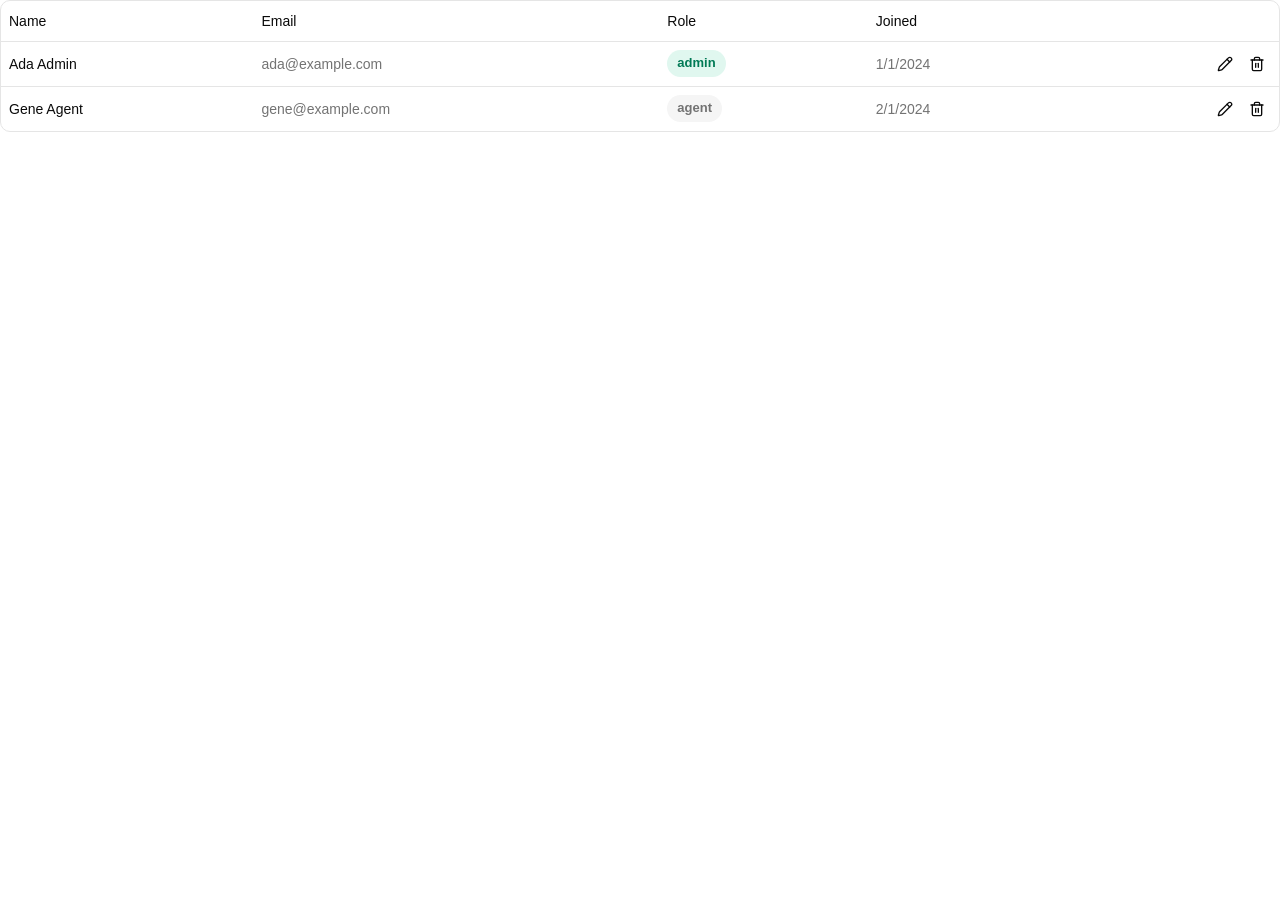
opens the delete confirmation for the clicked row
Expected: the text "Gene Agent" is shown, [1,86,253,130]
Click the 4th button named "Delete Gene Agent" at [1257, 108], box [1243,94,1271,122]
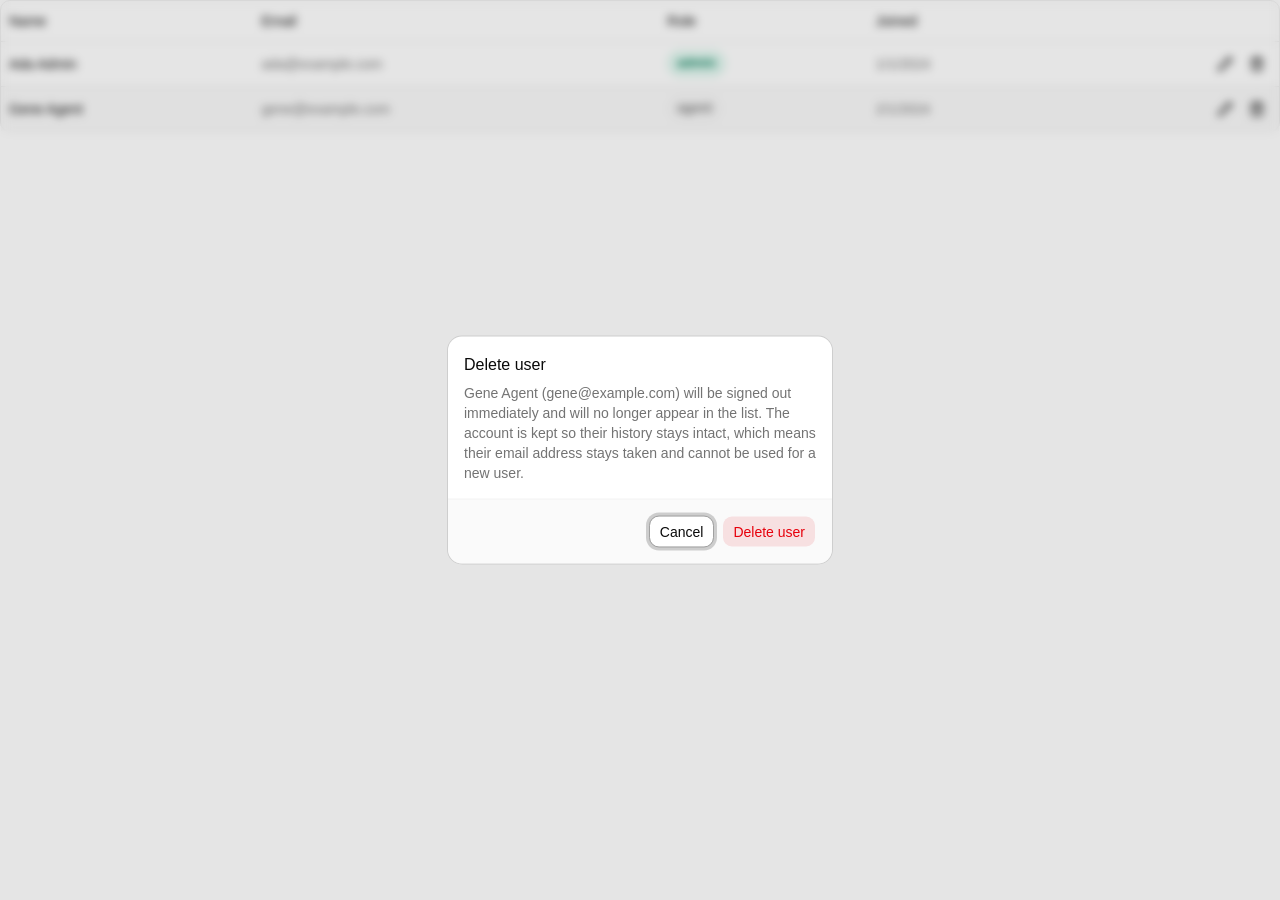
Now the heading "Delete user" is shown, box [464,352,546,376]
Now the text "Gene Agent (gene@example.com)" is shown, box [464,382,816,482]
